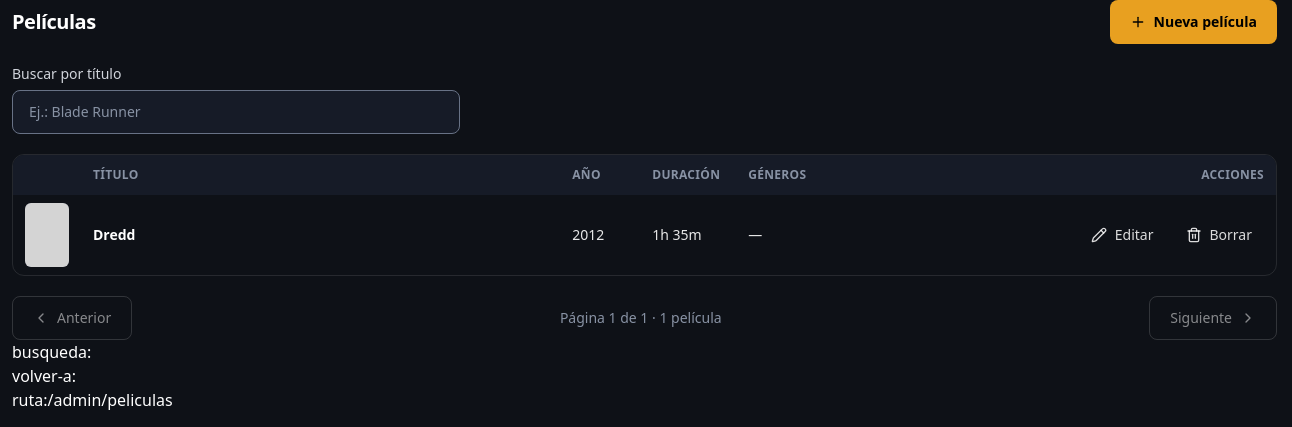
it: AdminMoviesPage: búsqueda › cancela la búsqueda anterior si cambia el texto antes de que responda (AbortController)
This screenshot has width=1292, height=427.
Expected: the row "Dredd 2012 1h 35m — Editar Borrar" is shown, [13,195,1276,275]
Type "a" into the search field labelled "Buscar por título" at (236, 112), box [12,90,460,134]
Wait 300 ms
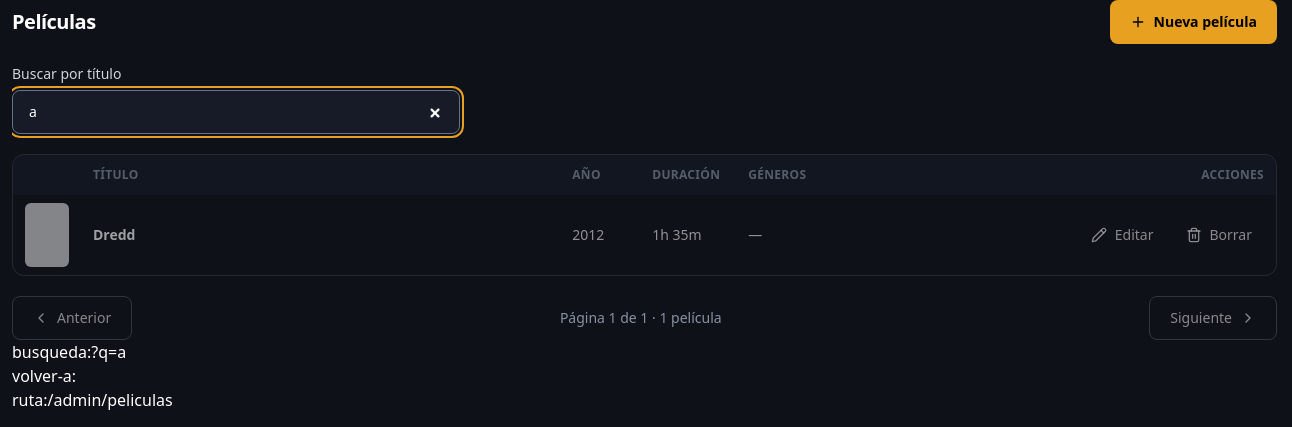
Type "b" into the search field labelled "Buscar por título" at (236, 112), box [12,90,460,134]
Wait 300 ms
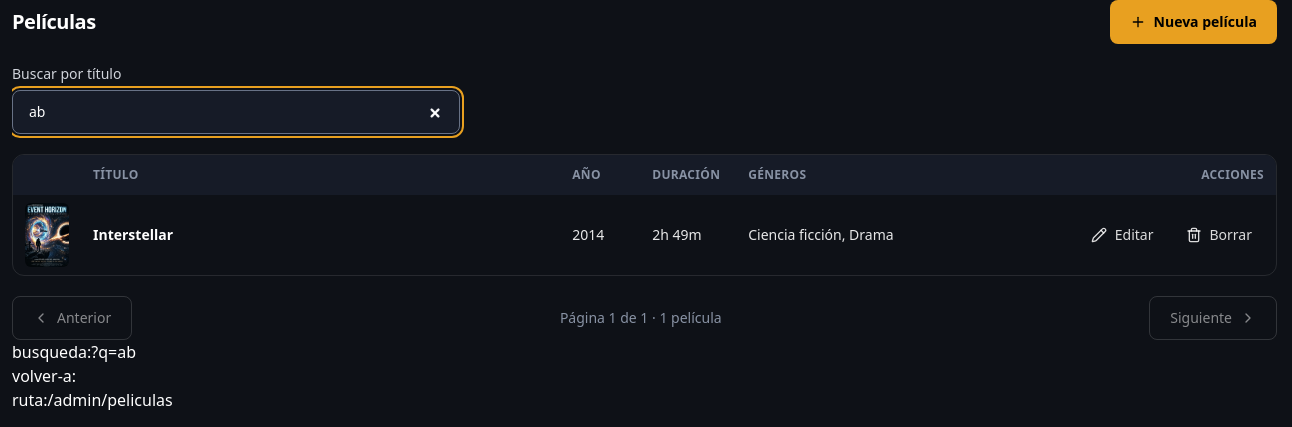
Expected: the row "Interstellar" is shown, [13,195,1276,275]
